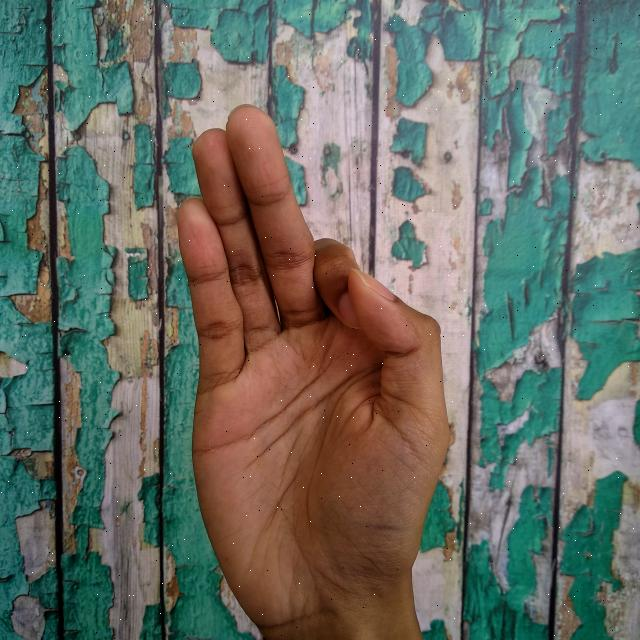F: (175, 98, 455, 640)
